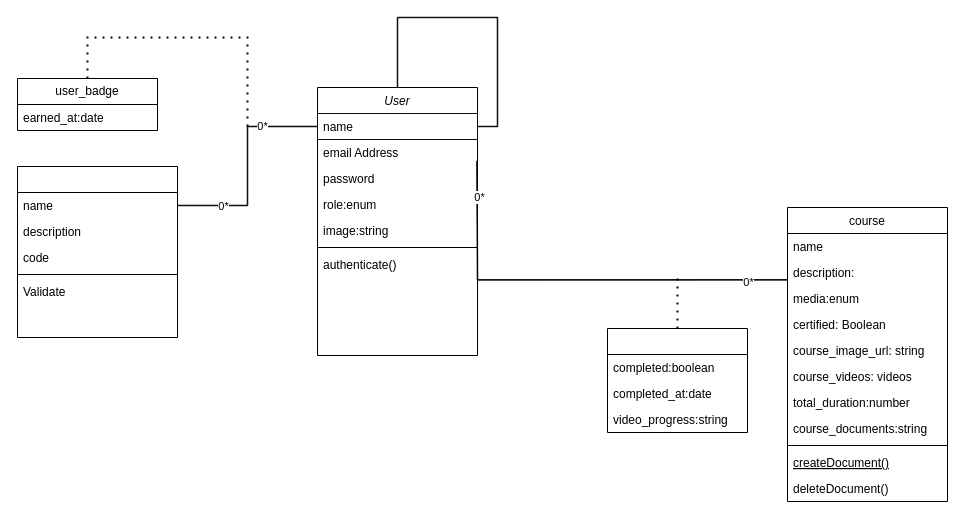
The diagram is 965 pixels wide and 522 high, and some of its shapes have lost their labels. Each missing label, with the box of its shape:
badges: (16, 166, 178, 338)
student_course: (606, 328, 748, 432)
